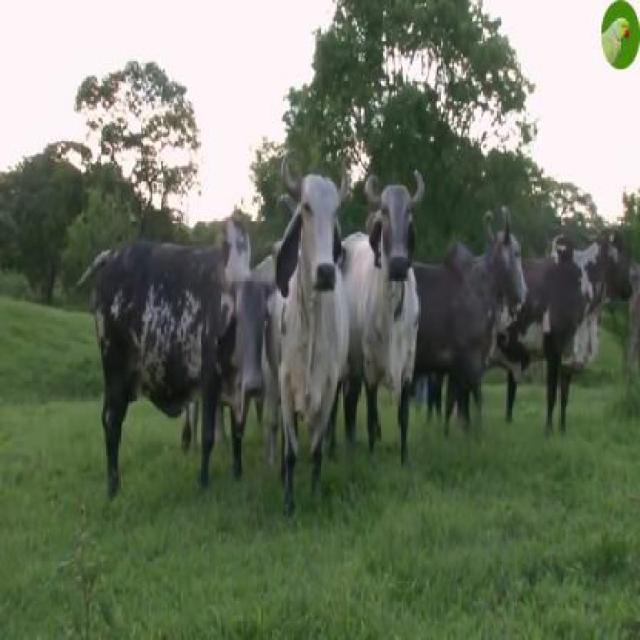Cow: (271, 163, 354, 511), (340, 171, 428, 451)
